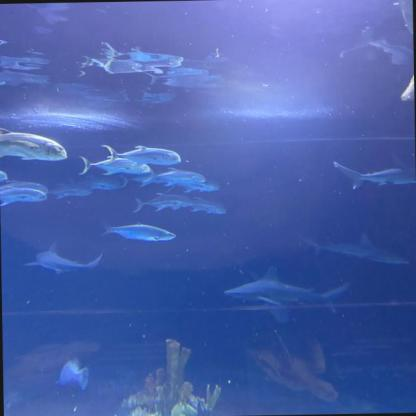fish: (0, 127, 68, 163), (104, 144, 181, 167), (78, 153, 151, 176), (101, 222, 176, 242), (141, 168, 205, 188), (134, 193, 190, 213), (57, 358, 91, 390), (0, 186, 49, 208), (179, 196, 225, 216), (71, 175, 125, 191), (45, 184, 92, 200), (182, 177, 216, 193), (0, 168, 8, 183)
shark: (226, 264, 347, 312), (298, 231, 408, 265), (334, 152, 415, 190), (24, 242, 103, 274)
